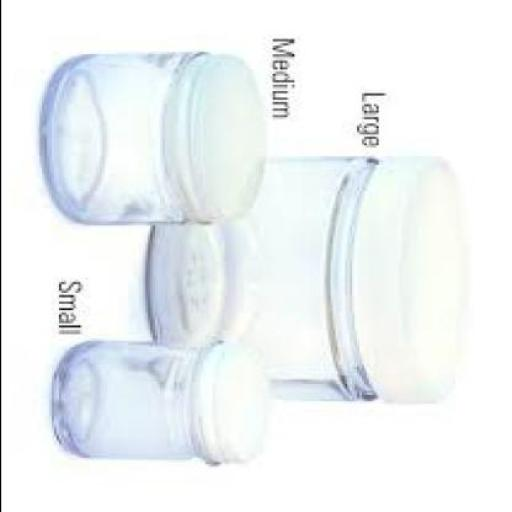glass: (146, 154, 386, 399), (48, 48, 204, 224), (53, 338, 219, 462)
plastic: (353, 156, 469, 404), (171, 52, 265, 222), (198, 339, 272, 460)
